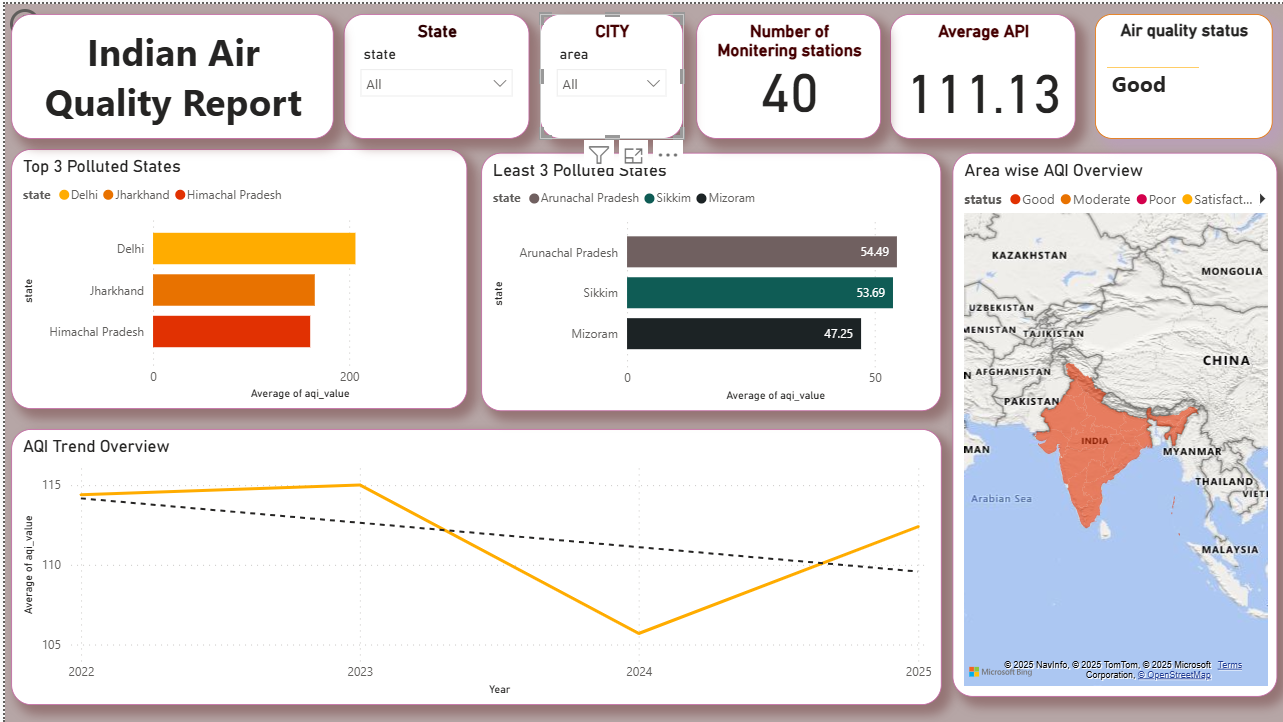

What the dashboard file says about the page in this screenshot:
{"tool":"powerbi","page":{"name":"Indian Air Quality Report","canvas":[1280,720],"ordinal":0},"visuals":[{"type":"lineChart","title":"AQI Trend Overview","fields":{"Category":["aqi.date.Variation.Date Hierarchy.Year","aqi.date.Variation.Date Hierarchy.Quarter","aqi.date.Variation.Date Hierarchy.Month","aqi.date.Variation.Date Hierarchy.Day"],"Y":["Avg(aqi.aqi_value)"]},"box":[6.2,425,930,276.2],"z":0},{"type":"slicer","title":"CITY","fields":{"Values":["aqi.area"]},"box":[535.4,9.8,143,124.7],"z":1000},{"type":"barChart","title":"Top 3 Polluted States","fields":{"Category":["aqi.state"],"Y":["Avg(aqi.aqi_value)"],"Series":["aqi.state"]},"box":[6.1,145.5,456,260.4],"z":2000},{"type":"barChart","title":"Least 3 Polluted States","fields":{"Category":["aqi.state"],"Y":["Avg(aqi.aqi_value)"],"Series":["aqi.state"]},"box":[476.7,148.3,460,258.3],"z":3000},{"type":"card","title":"Average API","fields":{"Values":["Avg(aqi.aqi_value)"]},"box":[885,9.8,185.8,124.7],"z":4000},{"type":"card","title":"Number of Monitering stations ","fields":{"Values":["Count(aqi.number_of_monitoring_stations)"]},"box":[691.8,10,185,125],"z":5000},{"type":"slicer","title":"State","fields":{"Values":["aqi.state"]},"box":[338.6,9.8,185.8,124.7],"z":6000},{"type":"filledMap","title":"Area wise AQI Overview","fields":{"Series":["aqi.status"],"Category":["aqi.state"]},"box":[947.5,148.8,325,543.8],"z":7000},{"type":"actionButton","box":[0,0,100,40],"z":8000},{"type":"textbox","box":[6.1,9.8,322.7,124.7],"z":9000},{"type":"tableEx","title":"Air quality status","fields":{"Values":["aqi.Air Quality Status"]},"box":[1090.4,9.8,177.2,124.7],"z":10001}]}

Visuals, with their boxes in screenshot pixels (x1, y1, x2, y2), scaled from the page's 1280x720 canvas onto the 1283x722 screenshot:
"AQI Trend Overview" lineChart: detection(6, 426, 938, 703)
"CITY" slicer: detection(537, 10, 680, 135)
"Top 3 Polluted States" barChart: detection(6, 146, 463, 407)
"Least 3 Polluted States" barChart: detection(478, 149, 939, 408)
"Average API" card: detection(887, 10, 1073, 135)
"Number of Monitering stations " card: detection(693, 10, 879, 135)
"State" slicer: detection(339, 10, 526, 135)
"Area wise AQI Overview" filledMap: detection(950, 149, 1275, 695)
actionButton: detection(0, 0, 100, 40)
textbox: detection(6, 10, 330, 135)
"Air quality status" tableEx: detection(1093, 10, 1271, 135)
